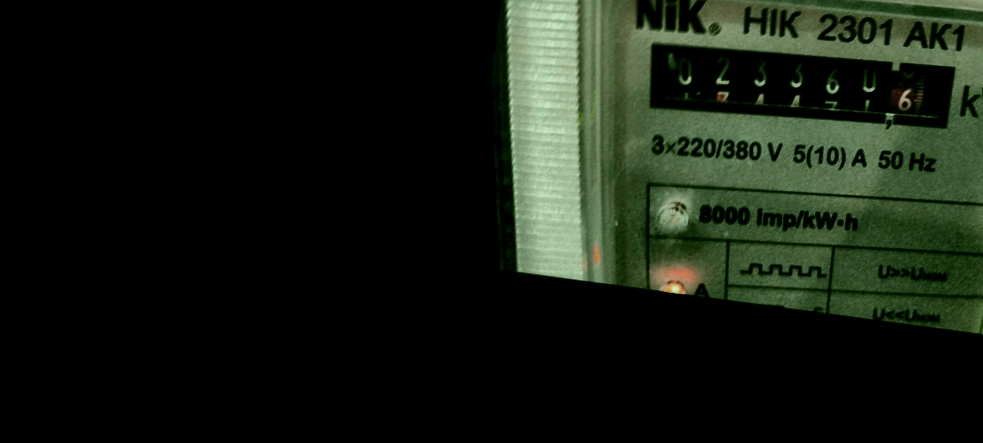0: (670, 53, 696, 89), (853, 63, 879, 97)
2: (709, 53, 733, 88)
3: (783, 56, 807, 91), (745, 57, 768, 90)
6: (818, 62, 843, 98), (891, 81, 916, 117)
screen: (624, 16, 972, 155)
